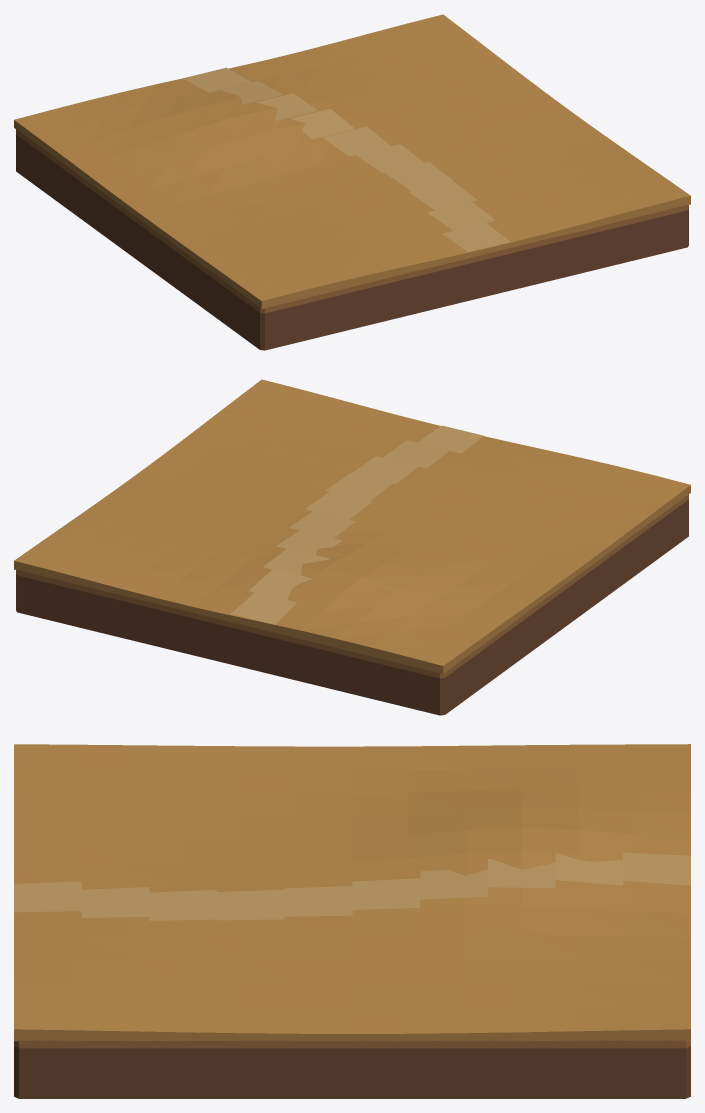
The picture shows the model from 3 angles, top to bottom: view 1: azimuth 30°, elevation 25°; view 2: azimuth 150°, elevation 25°; view 3: azimuth 270°, elevation 25°; orthographic projection. The views are drawn at different scales.
Parts seen in each view (by area): view 1: B05_秋土古道; view 2: B05_秋土古道; view 3: B05_秋土古道.
Part boxes in pixels (left/top/right/bottom): B05_秋土古道: left=14, top=14, right=690, bottom=350; B05_秋土古道: left=14, top=379, right=690, bottom=715; B05_秋土古道: left=14, top=744, right=690, bottom=1098.
Size of the model in its own units: 8 by 1.05 by 8.
